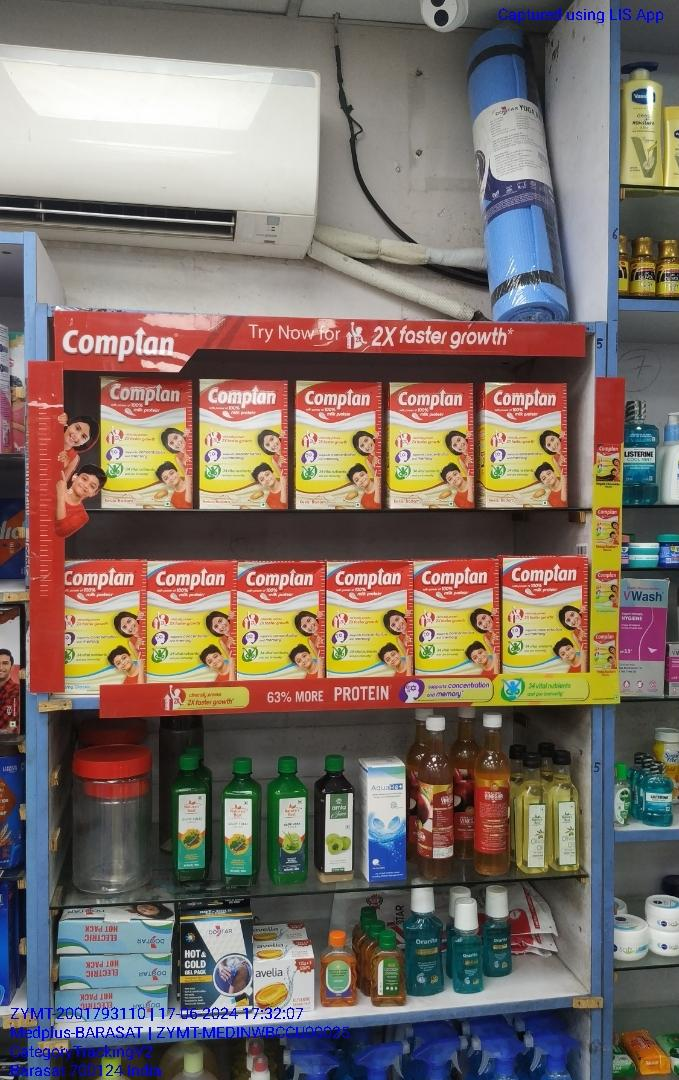COMPLAN_CREAMY_CLASSIC_500_G_PACK: (148, 561, 235, 684), (64, 560, 145, 688), (238, 562, 325, 678), (501, 557, 586, 673), (327, 562, 412, 676), (416, 560, 498, 670)
COMPLAN_KESAR_BADAM_500_GMS_PACK: (100, 375, 194, 509), (198, 377, 287, 509), (294, 382, 383, 512), (389, 383, 473, 510), (486, 383, 570, 507)
